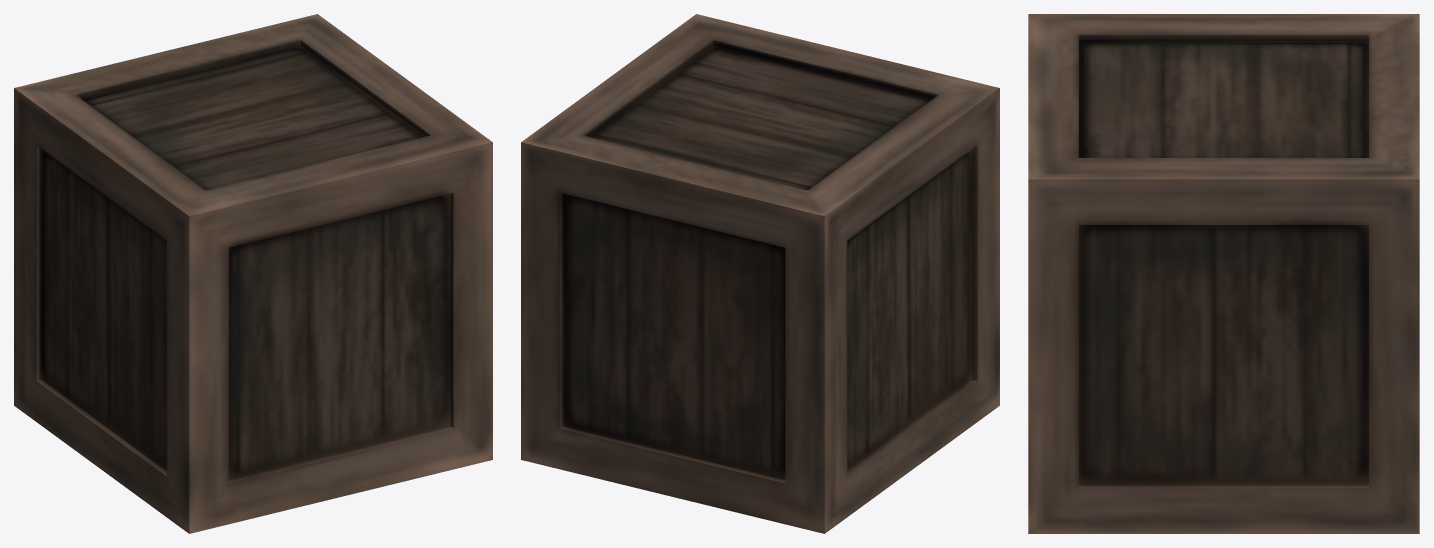
File: dc1_crate.glb
3 views of the same model, side by side, from view 1: azimuth 30°, elevation 25°; view 2: azimuth 150°, elevation 25°; view 3: azimuth 270°, elevation 25° (orthographic). The views are drawn at different scales.
Parts seen in each view (by area): view 1: crate; view 2: crate; view 3: crate.
Part boxes in pixels (x1,y1,x2,y2): crate: (14,14,492,533); crate: (521,14,999,533); crate: (1028,14,1419,533).
Size of the model in its own units: 0.8 by 0.8 by 0.8.
1 material, 1 textured.
